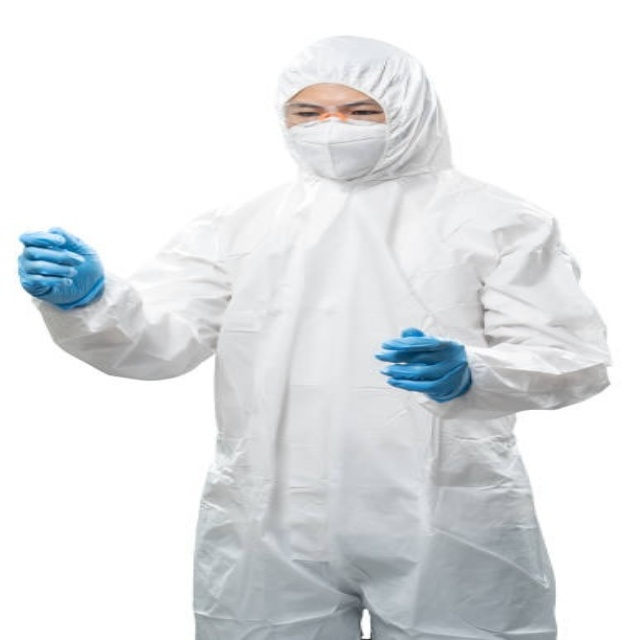Gafas: (281, 100, 389, 129)
Guantes: (18, 226, 106, 310), (378, 327, 473, 403)
Mascara: (286, 117, 392, 180)
